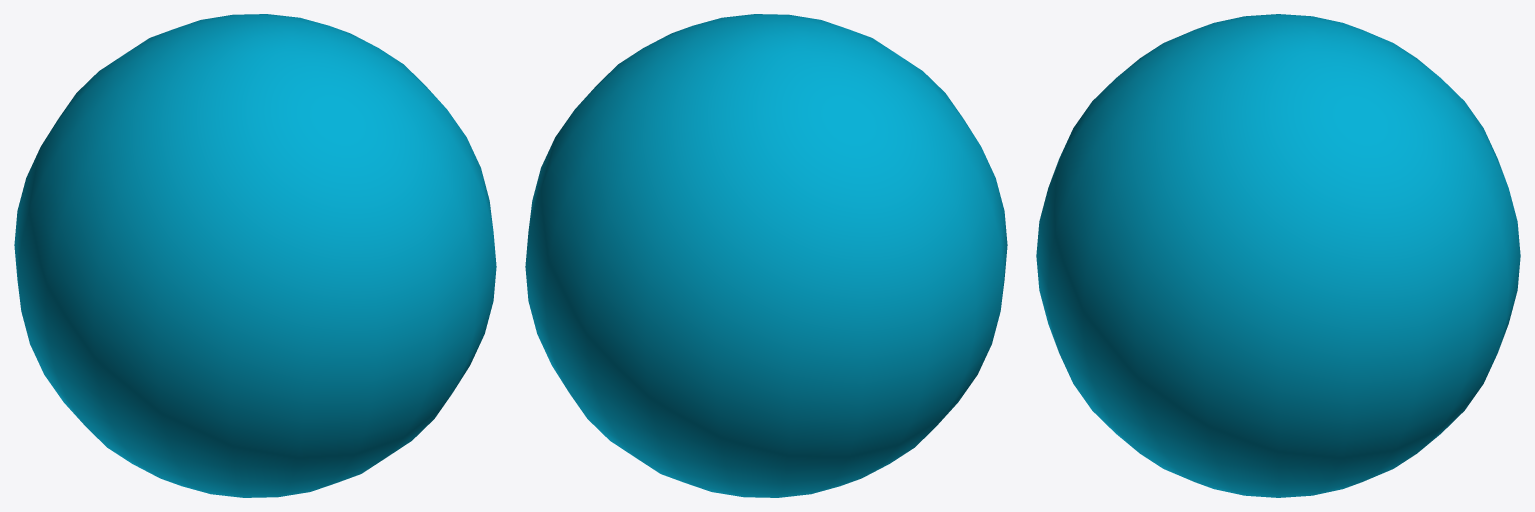
The model's file is Shuriken_Bubble.fbx.
3 renders of one model, left to right at view 1: azimuth 30°, elevation 25°; view 2: azimuth 150°, elevation 25°; view 3: azimuth 270°, elevation 25°, orthographic.
Visible parts, largest first — view 1: pSphere1; view 2: pSphere1; view 3: pSphere1.
Part boxes in pixels (<box>): pSphere1: <box>14,14,496,497</box>; pSphere1: <box>525,14,1007,497</box>; pSphere1: <box>1036,14,1520,497</box>.
Bounding box in the file's own units: 11.15 × 11.15 × 11.15.
